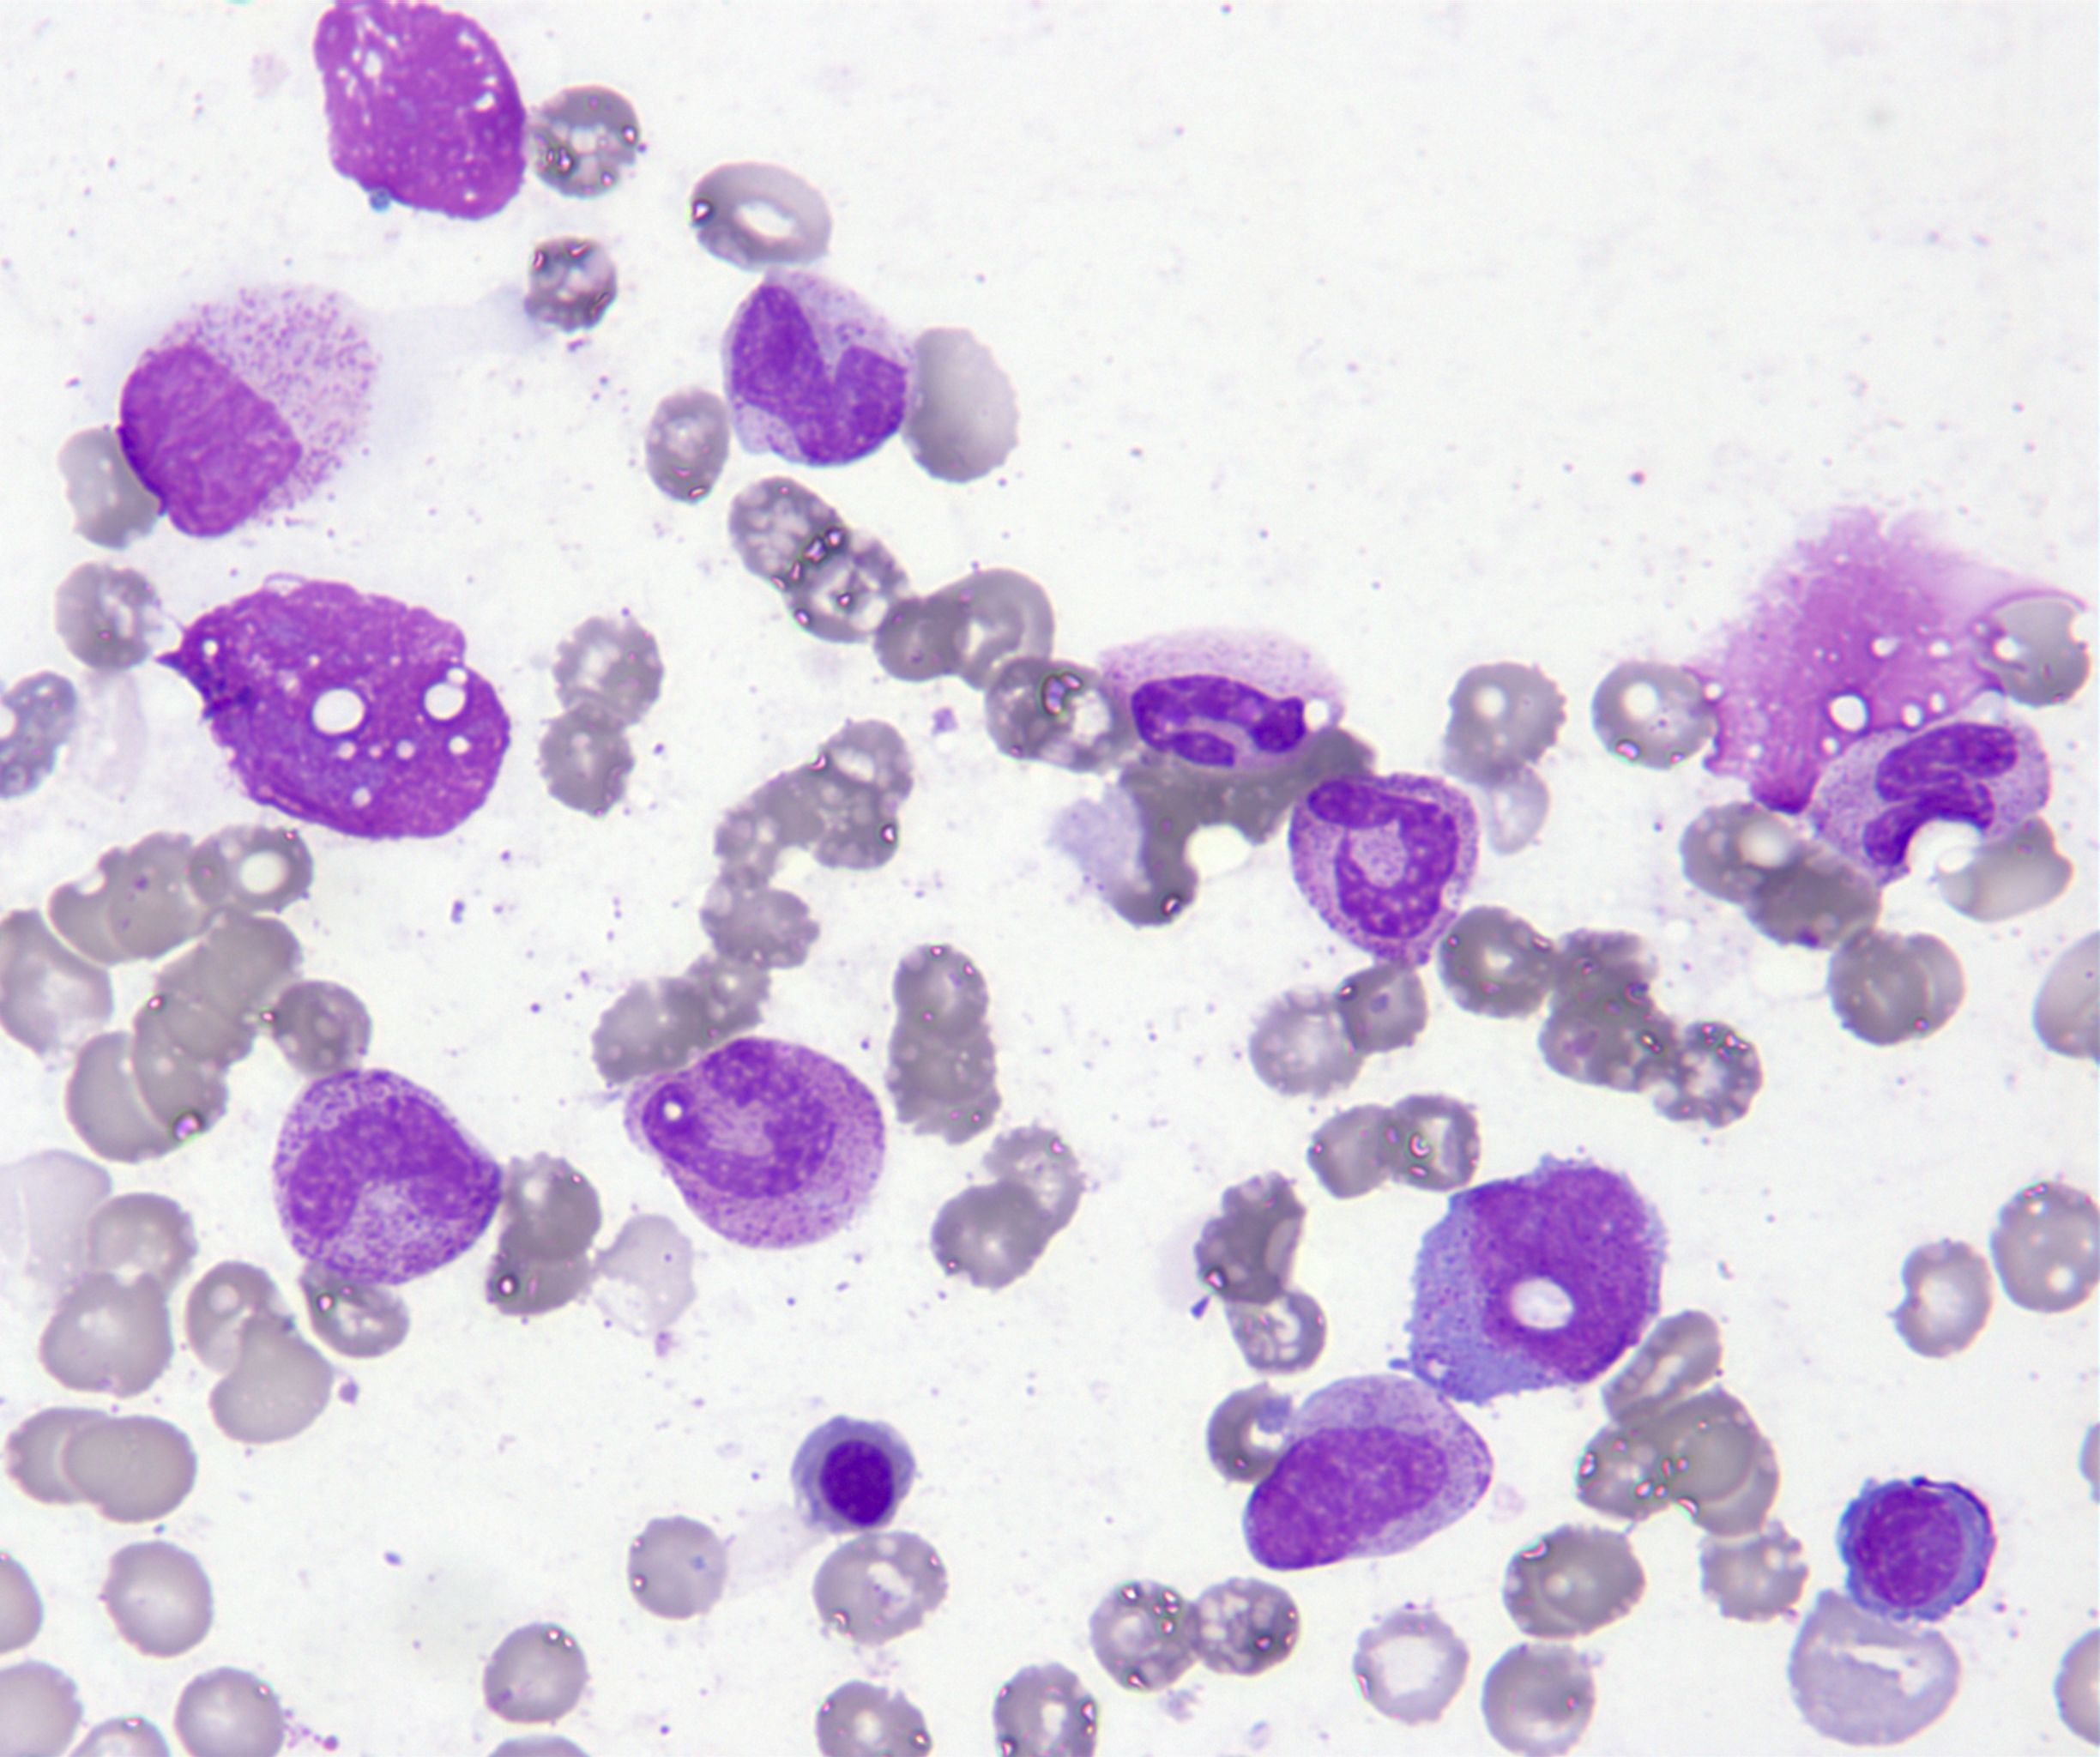23: (1828, 1466, 1999, 1631)
24: (785, 1412, 921, 1542)
3: (1399, 1148, 1671, 1413)
4: (267, 1064, 515, 1295), (1238, 1366, 1498, 1579), (710, 256, 926, 473)
5: (619, 1033, 891, 1258), (1788, 687, 2056, 895), (1277, 762, 1484, 972), (1092, 623, 1350, 775)
x: (147, 562, 516, 848), (309, 0, 534, 232), (106, 340, 323, 544)
